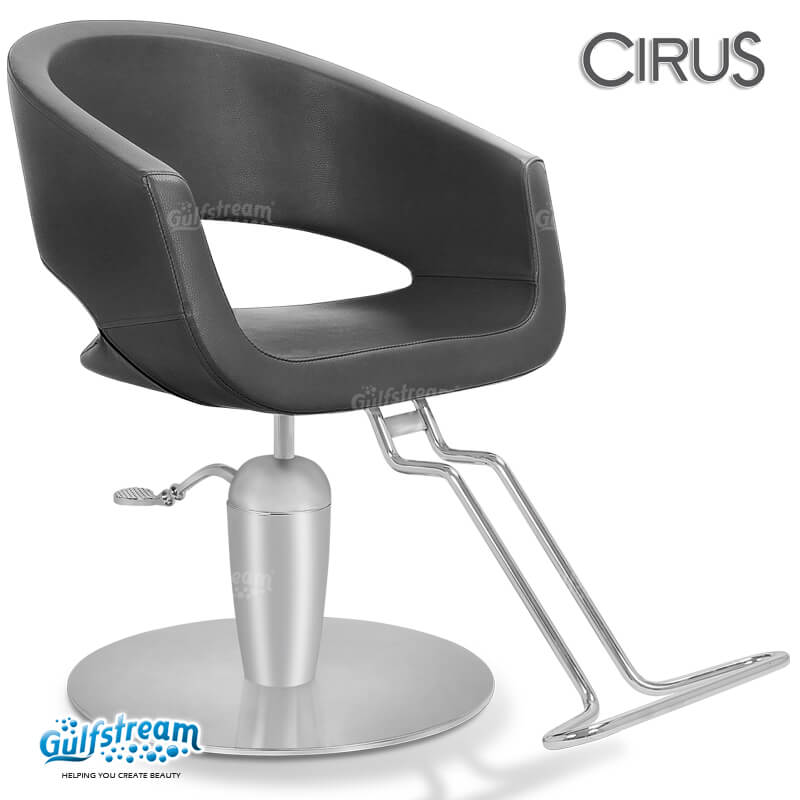chairs: (1, 21, 783, 752)
